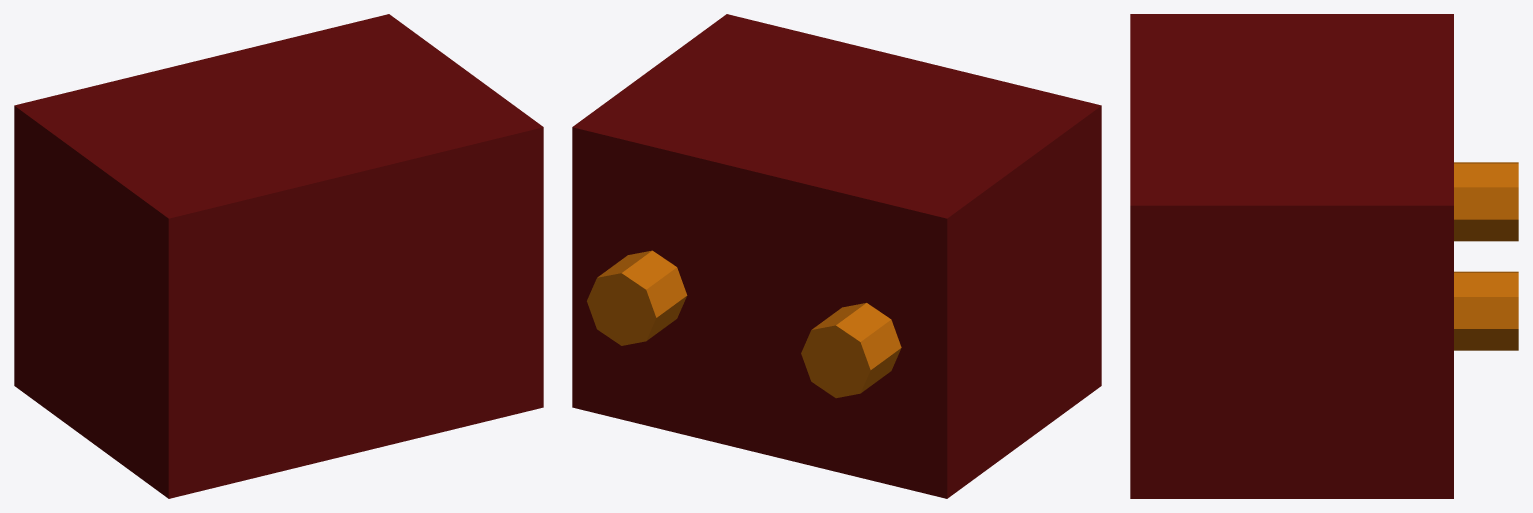
3 renders of one model, left to right at view 1: azimuth 30°, elevation 25°; view 2: azimuth 150°, elevation 25°; view 3: azimuth 270°, elevation 25°, orthographic. The views are drawn at different scales.
Visible parts, largest first — view 1: RED; view 2: RED, GOLD; view 3: RED, GOLD.
Boxes of the visible parts, <box> form: RED: <box>14,14,543,498</box>; RED: <box>572,14,1101,498</box>; GOLD: <box>587,250,901,398</box>; RED: <box>1130,14,1453,498</box>; GOLD: <box>1454,162,1518,350</box>.
Size of the model in its own units: 0.007 by 0.005 by 0.006.
